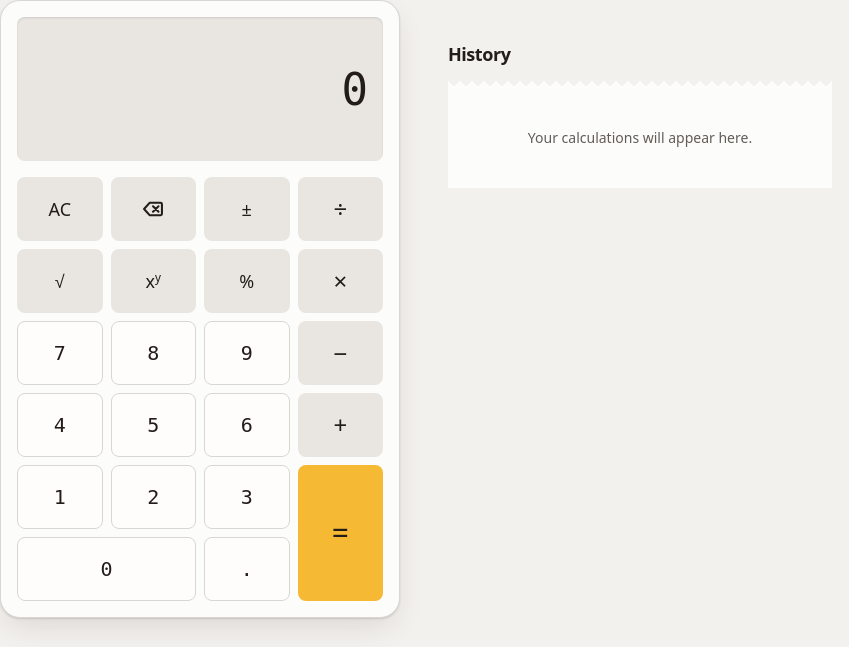
CalculatorWorkspace › calculates through the API and shows the expression
The width and height of the screenshot is (849, 647).
Click the button "1": (60, 497) [17,465,102,529]
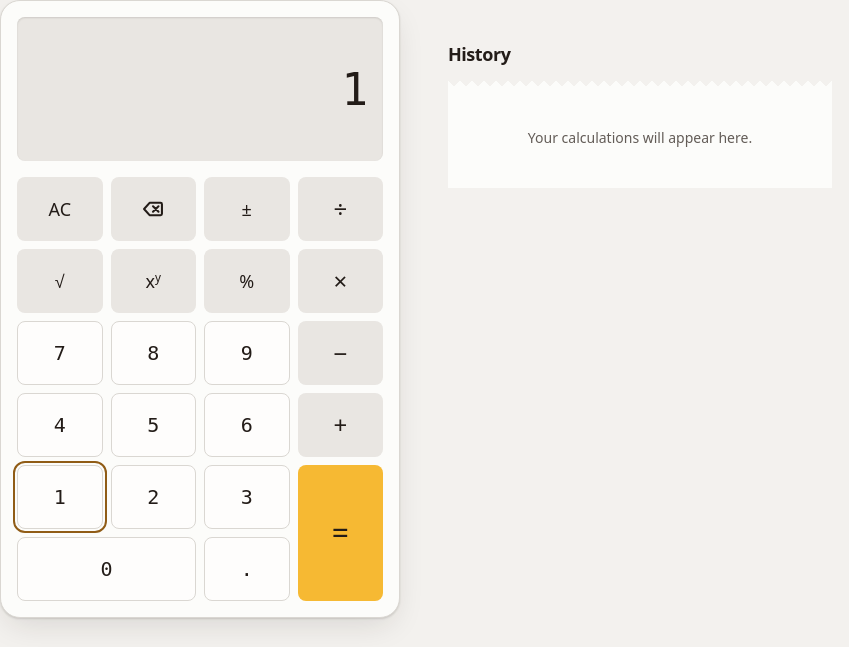
Click the button "2": (153, 497) [110,465,196,529]
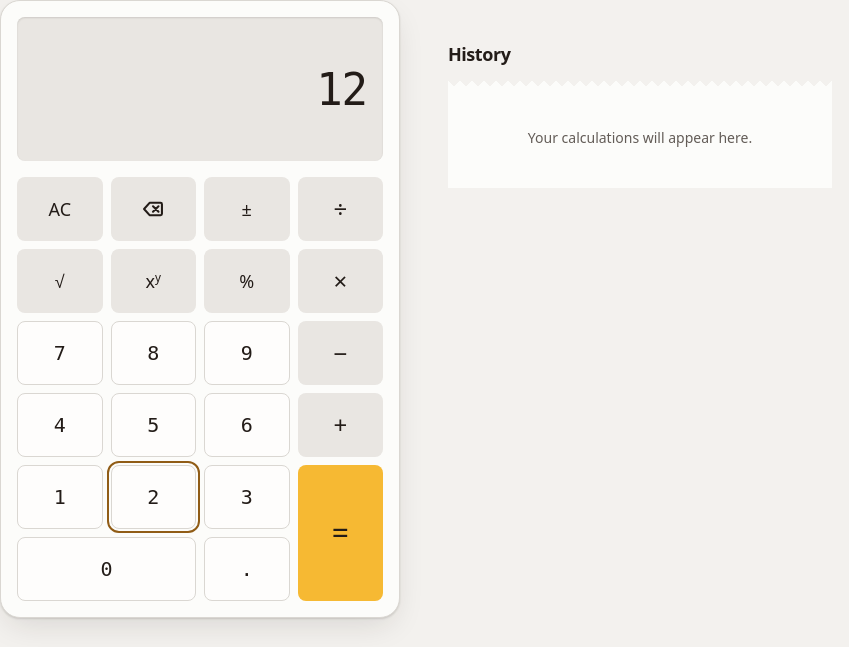
Click the button named "Add": (340, 425) [298,393,383,457]
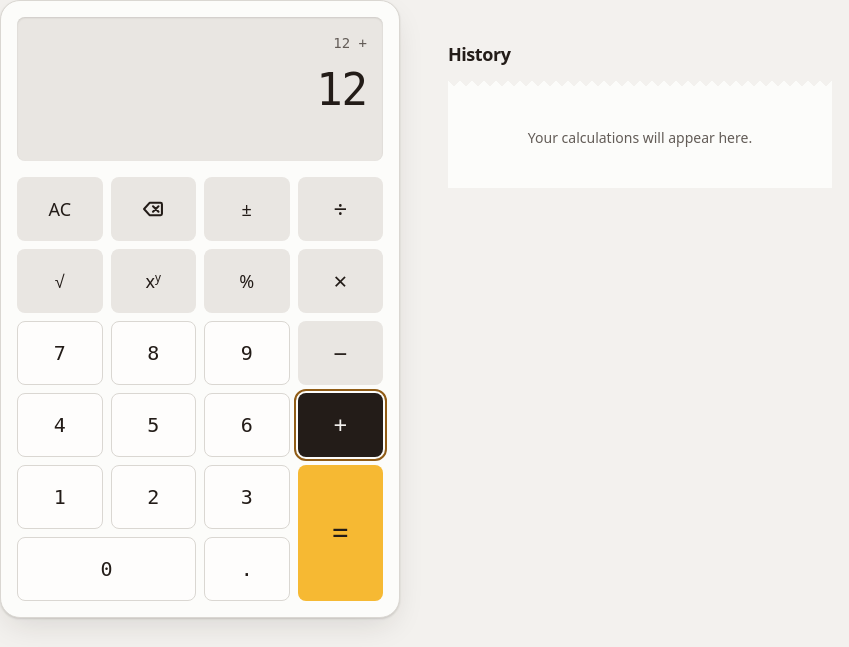
Click the button "3": (247, 497) [204,465,290,529]
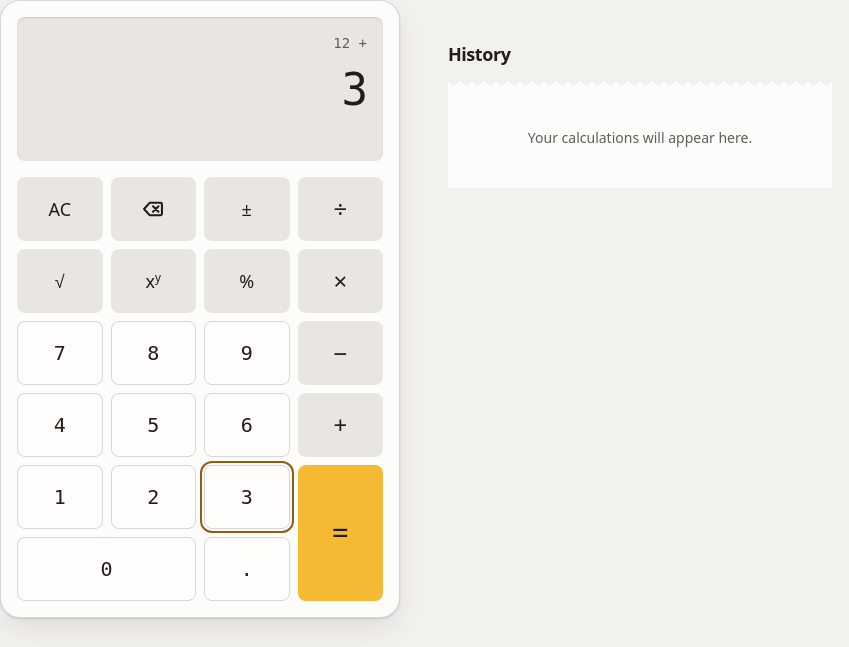
Click the button named "Equals": (340, 533) [298,465,383,601]
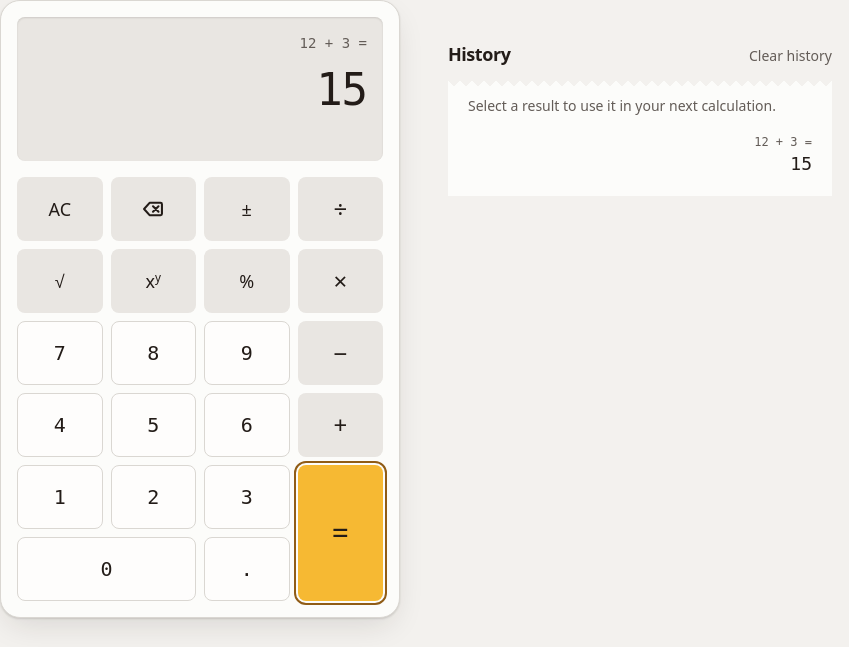
Expected: the element named "Display" shows "12 + 3 =", [300,35,367,51]
